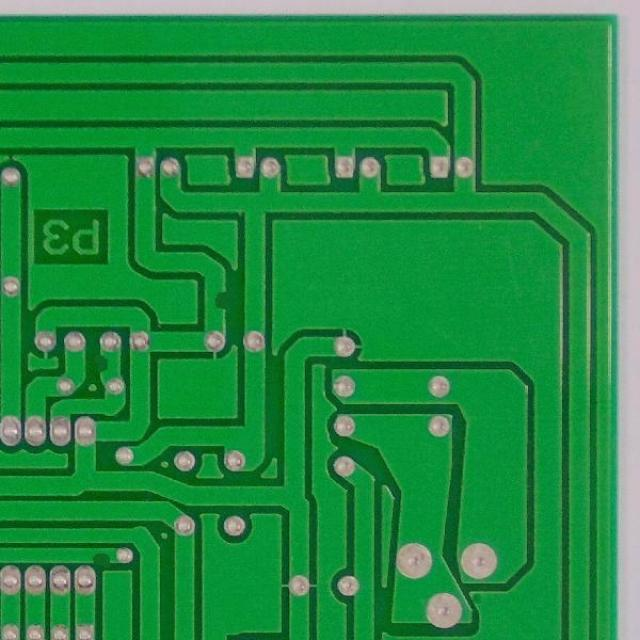MouseBite: (210, 286, 229, 314), (84, 550, 112, 566), (95, 352, 112, 374)
